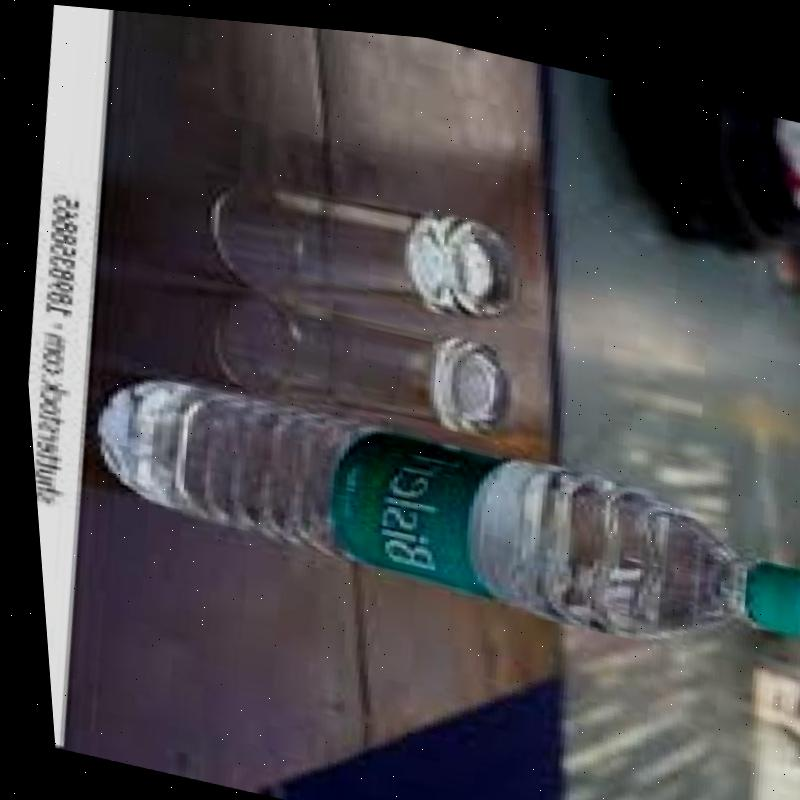botella: (67, 355, 800, 671)
